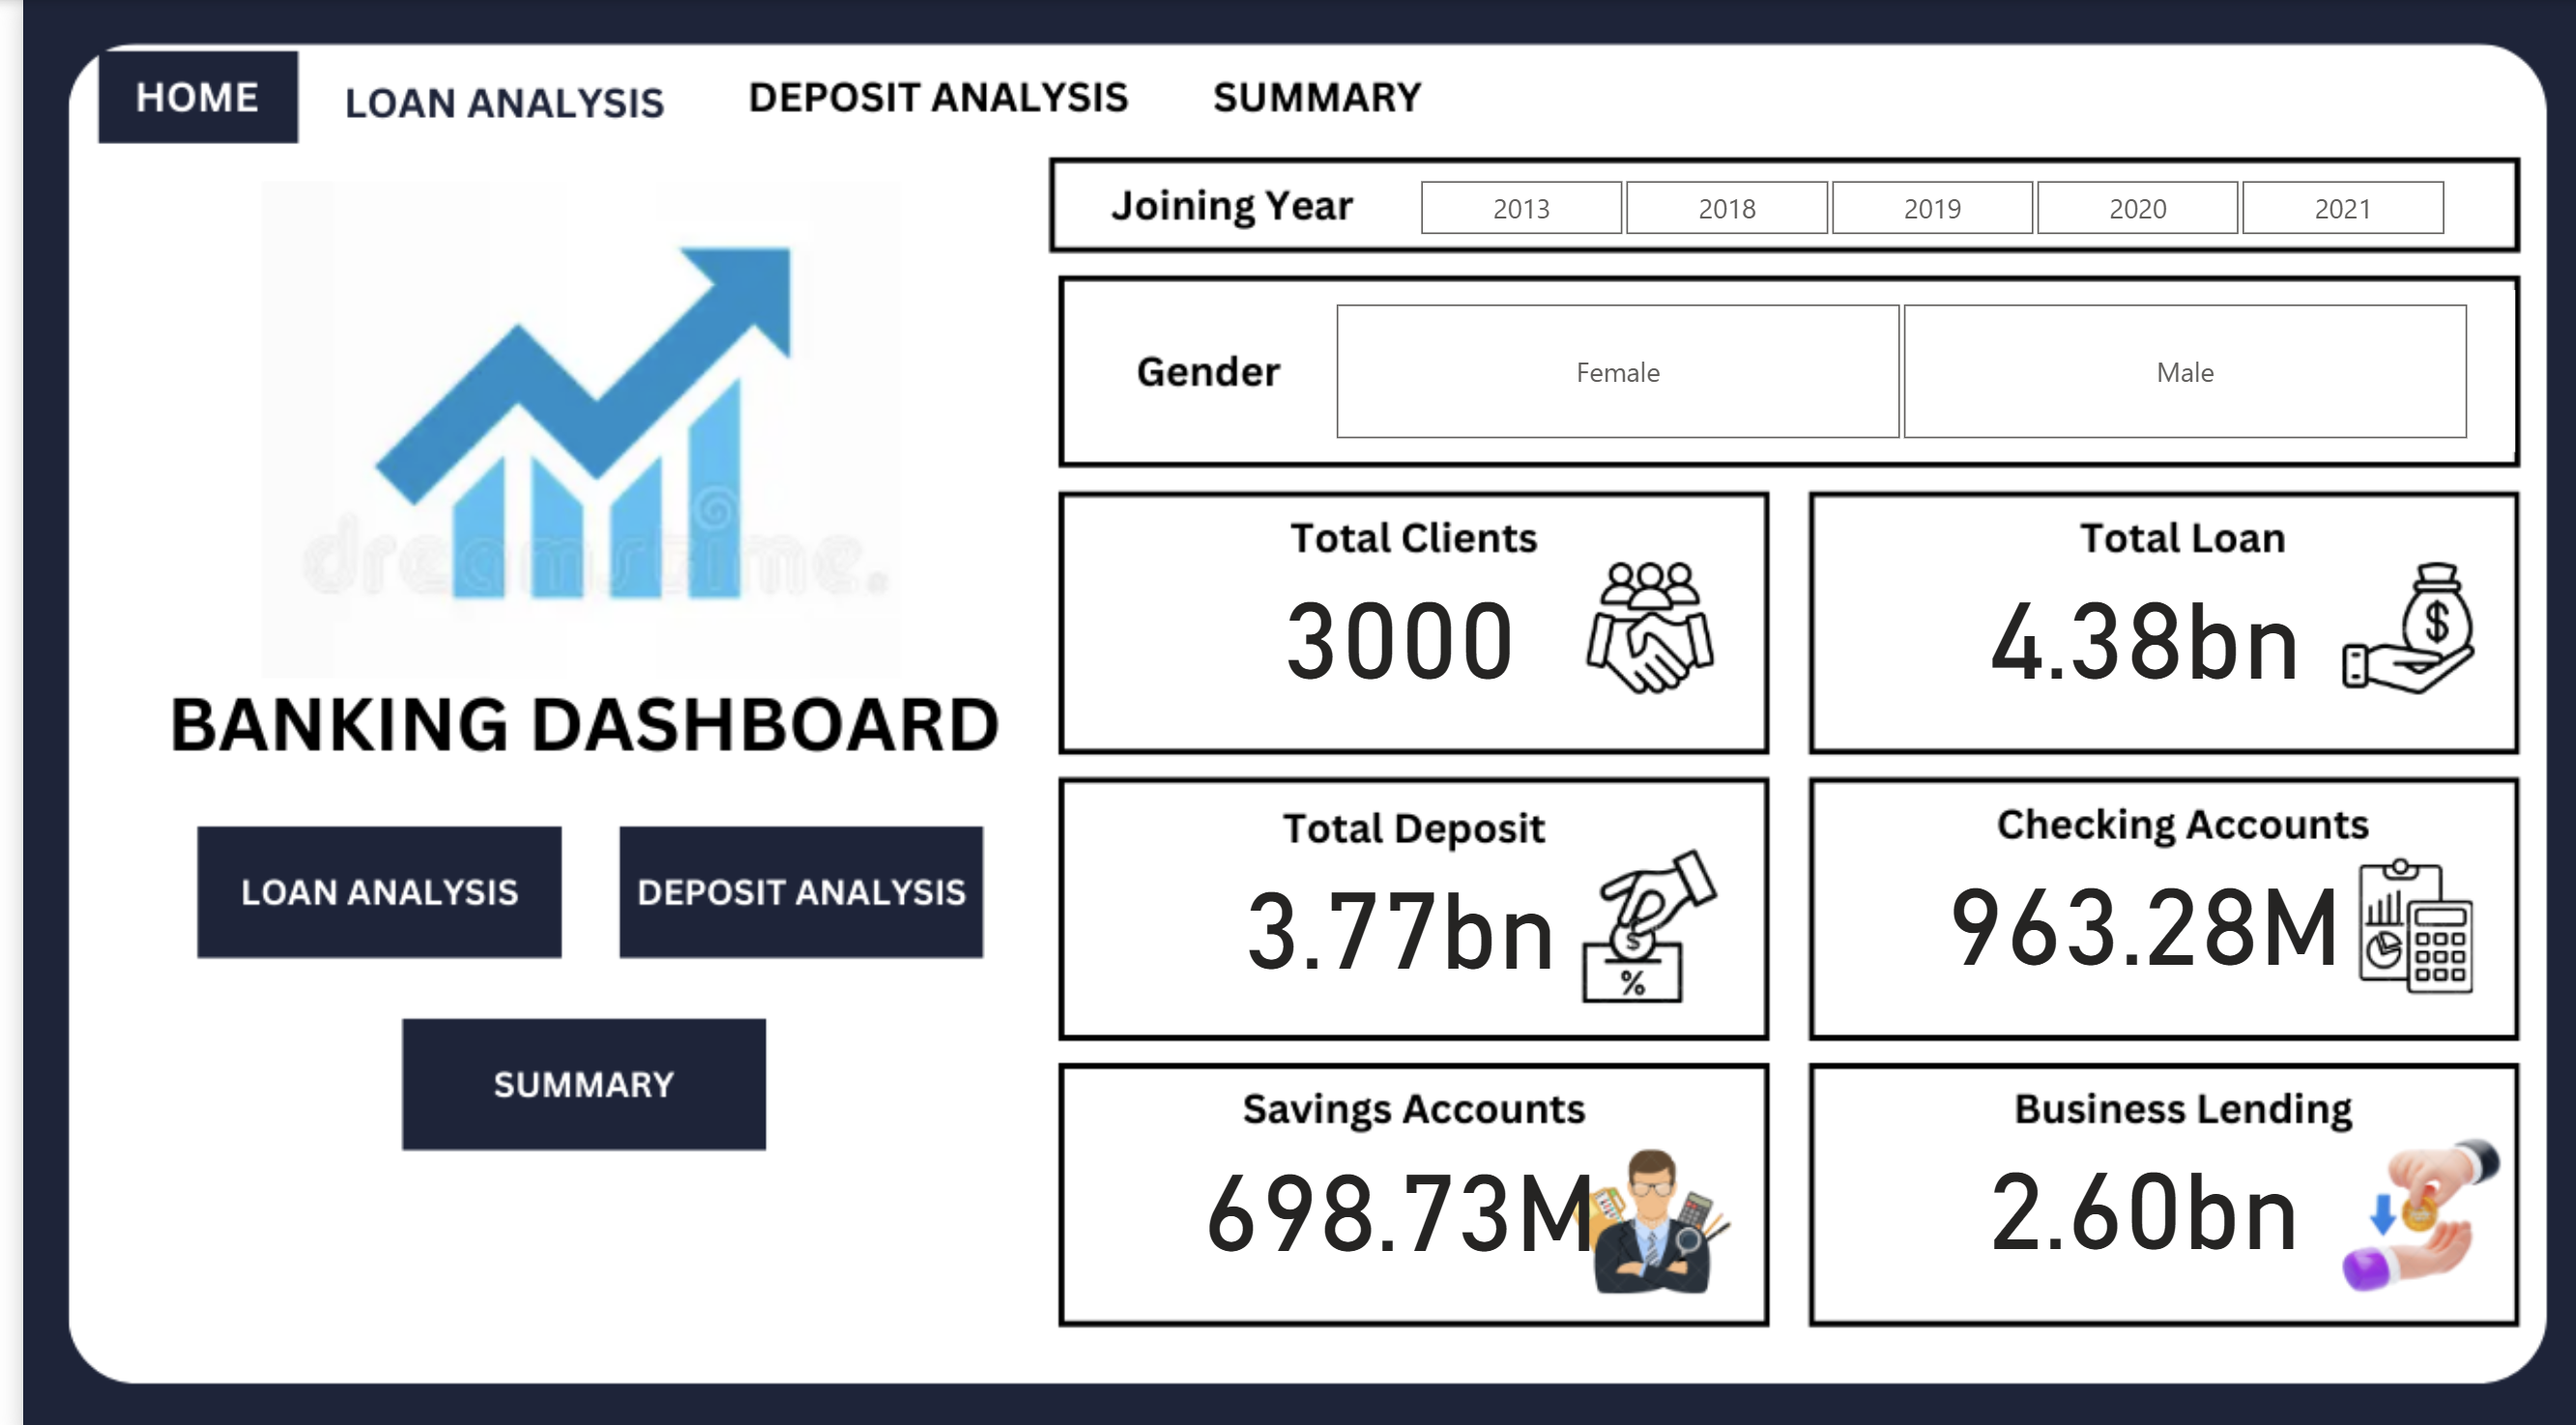

This screenshot's page, from the dashboard's own definition file:
{"tool":"powerbi","page":{"name":"Home 2","canvas":[1280,720],"ordinal":1},"visuals":[{"type":"card","fields":{"Values":["Min(banking_case customer.Name)"]},"box":[580.5,275.2,213.6,74.7],"z":0},{"type":"slicer","fields":{"Values":["banking_case customer.GenderId"]},"box":[629.8,145.2,614.3,81],"z":1000},{"type":"card","fields":{"Values":["banking_case customer.Total Loan"]},"box":[951.4,275.2,214.9,74.7],"z":2000},{"type":"card","fields":{"Values":["banking_case customer.Total Deposit"]},"box":[581.8,419.3,212.3,74.7],"z":3000},{"type":"slicer","fields":{"Values":["banking_case customer.Year of Joining"]},"box":[671.4,83.3,560.7,34.5],"z":4000},{"type":"card","fields":{"Values":["Sum(banking_case customer.Saving Accounts)"]},"box":[580.5,560.9,213.6,74.7],"z":5000},{"type":"card","fields":{"Values":["Sum(banking_case customer.Business Lending)"]},"box":[951.4,559.5,213.6,74.7],"z":6000},{"type":"card","fields":{"Values":["Sum(banking_case customer.Checking Accounts)"]},"box":[951.4,418,213.6,76],"z":7000},{"type":"actionButton","box":[191.5,514.3,175.7,55.4],"z":8000},{"type":"actionButton","box":[348.2,31.7,221.6,39.6],"z":9000},{"type":"actionButton","box":[91.8,417.8,172.5,58.6],"z":10000},{"type":"actionButton","box":[297.5,419.4,185.2,57],"z":11000}]}

Visuals, with their boxes in screenshot pixels (x1, y1, x2, y2), scaled from the page's 1280x720 canvas onto the 2576x1425 screenshot:
card - Min(banking_case customer.Name): Rect(1169, 544, 1598, 692)
slicer - banking_case customer.GenderId: Rect(1267, 287, 2504, 448)
card - banking_case customer.Total Loan: Rect(1915, 544, 2347, 692)
card - banking_case customer.Total Deposit: Rect(1171, 829, 1598, 977)
slicer - banking_case customer.Year of Joining: Rect(1351, 165, 2479, 233)
card - Sum(banking_case customer.Saving Accounts): Rect(1169, 1110, 1598, 1258)
card - Sum(banking_case customer.Business Lending): Rect(1915, 1107, 2345, 1255)
card - Sum(banking_case customer.Checking Accounts): Rect(1915, 828, 2345, 977)
actionButton: Rect(386, 1018, 739, 1127)
actionButton: Rect(701, 63, 1146, 141)
actionButton: Rect(185, 827, 532, 943)
actionButton: Rect(598, 830, 971, 943)
